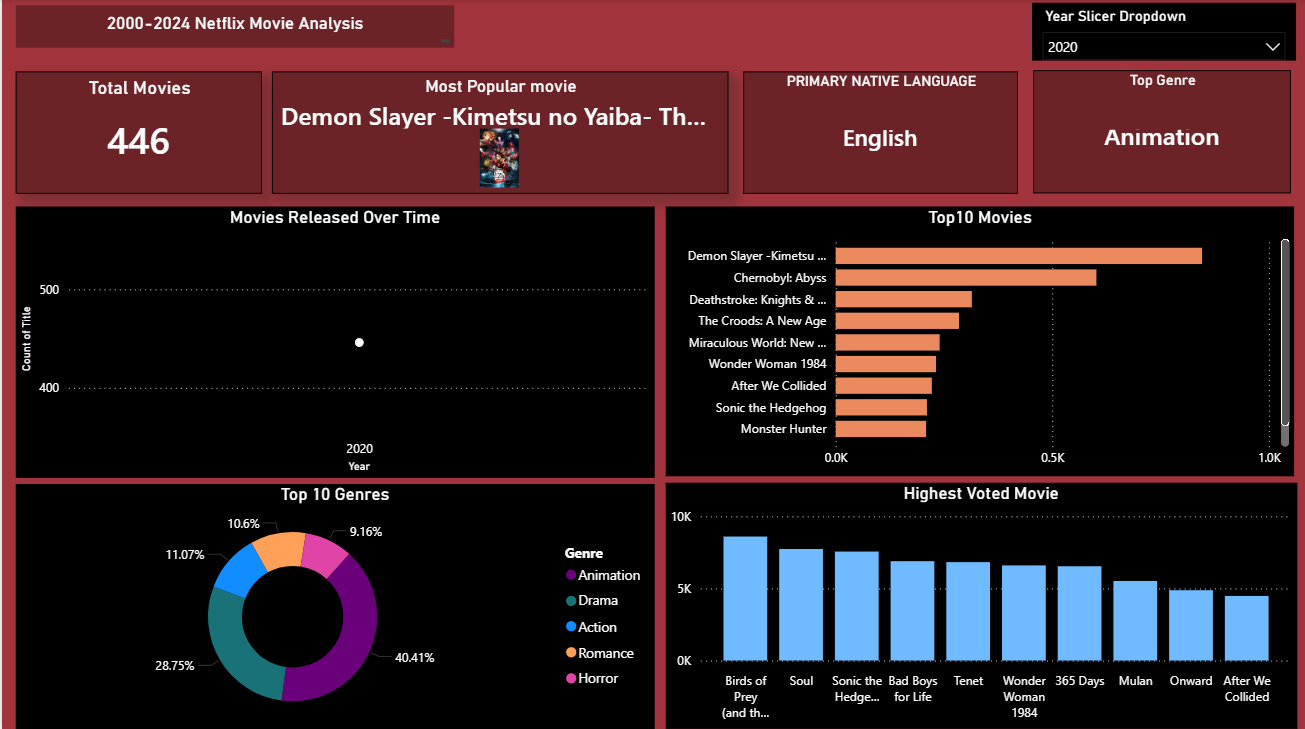

The dashboard page shown, as its layout file describes it:
{"tool":"powerbi","page":{"name":"Page 1","canvas":[1280,720],"ordinal":0},"visuals":[{"type":"cardVisual","title":"Total Movies","fields":{"Data":["Count(Table1.SlNo)"]},"box":[13.5,71.2,241.7,120.2],"z":0},{"type":"cardVisual","title":"Most Popular movie","fields":{"Data":["Min(Table1.Title)"]},"box":[265,71.2,447.9,120.2],"z":1000},{"type":"cardVisual","title":"PRIMARY NATIVE LANGUAGE","fields":{"Rows":["Table1.Original_Language"]},"box":[727.6,71.2,269.9,120.2],"z":2000},{"type":"cardVisual","title":"Top Genre","fields":{"Rows":["Table1.Genre.1"]},"box":[1012.3,69.9,253,121],"z":3000},{"type":"slicer","fields":{"Values":["Table1.Release_Date.Variation.Date Hierarchy.Year"]},"box":[1011,4,258.9,56.4],"z":4000},{"type":"stackedAreaChart","title":"Movies Released Over Time","fields":{"Category":["Table1.Release_Date.Variation.Date Hierarchy.Year"],"Y":["CountNonNull(Table1.Title)"]},"box":[13.5,203.7,627,266.3],"z":5000},{"type":"donutChart","title":"Top 10 Genres","fields":{"Category":["Table1.Genre.1"],"Y":["Max(Table1.Popularity)"]},"box":[14,476,627,241.7],"z":6000},{"type":"clusteredBarChart","title":"Top10 Movies","fields":{"Category":["Table1.Title"],"Y":["Max(Table1.Popularity)"]},"box":[651.5,203.7,617.2,265],"z":7000},{"type":"clusteredColumnChart","title":"Highest Voted Movie","fields":{"Category":["Table1.Title"],"Y":["Sum(Table1.Vote_Count)"]},"box":[651.5,475,619.6,241.7],"z":8000},{"type":"textbox","title":"2000-2024 Netflix Movie Analysis","box":[13.5,6.1,430.7,41.7],"z":10000}]}

Visuals, with their boxes in screenshot pixels (x1, y1, x2, y2), scaled from the page's 1280x720 canvas onto the 1305x729 screenshot:
"Total Movies" cardVisual: (14, 72, 260, 194)
"Most Popular movie" cardVisual: (270, 72, 727, 194)
"PRIMARY NATIVE LANGUAGE" cardVisual: (742, 72, 1017, 194)
"Top Genre" cardVisual: (1032, 71, 1290, 193)
slicer - Table1.Release_Date.Variation.Date Hierarchy.Year: (1031, 4, 1295, 61)
"Movies Released Over Time" stackedAreaChart: (14, 206, 653, 476)
"Top 10 Genres" donutChart: (14, 482, 654, 727)
"Top10 Movies" clusteredBarChart: (664, 206, 1293, 475)
"Highest Voted Movie" clusteredColumnChart: (664, 481, 1296, 726)
"2000-2024 Netflix Movie Analysis" textbox: (14, 6, 453, 48)
